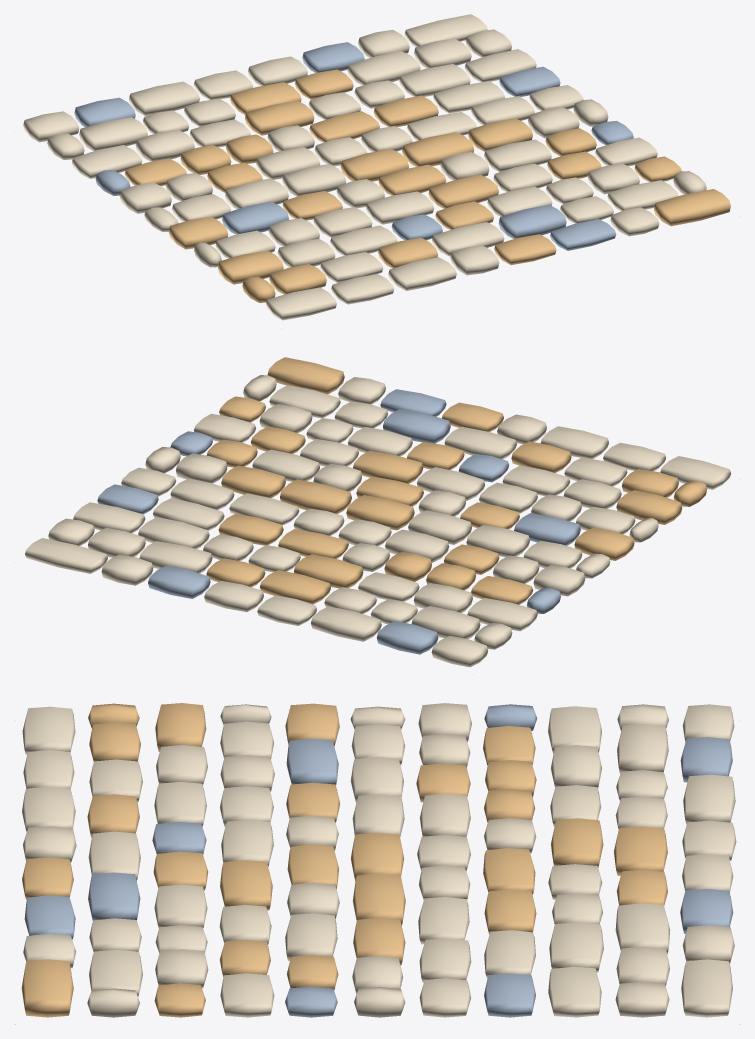
File: ArrowAmbushCobbles.obj
3 views of the same model, one above another, from view 1: azimuth 30°, elevation 25°; view 2: azimuth 150°, elevation 25°; view 3: azimuth 270°, elevation 25° (orthographic). The views are drawn at different scales.
Parts seen in each view (by area): view 1: Cobble, CobbleWarm, CobbleCool; view 2: Cobble, CobbleWarm, CobbleCool; view 3: Cobble, CobbleWarm, CobbleCool.
Boxes of the visible parts, <box> form: Cobble: <box>14,14,740,328</box>; CobbleWarm: <box>124,69,730,302</box>; CobbleCool: <box>74,42,633,250</box>; Cobble: <box>14,375,740,674</box>; CobbleWarm: <box>206,357,706,604</box>; CobbleCool: <box>97,389,580,654</box>; Cobble: <box>14,703,740,1024</box>; CobbleWarm: <box>21,703,667,1017</box>; CobbleCool: <box>24,704,733,1017</box>.
Size of the model in its own units: 10.63 by 0.4 by 10.73.
